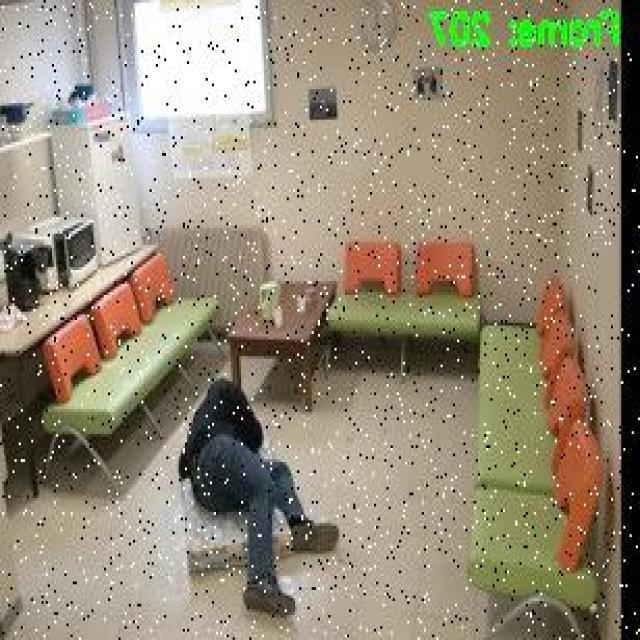fall: (182, 369, 342, 622)
